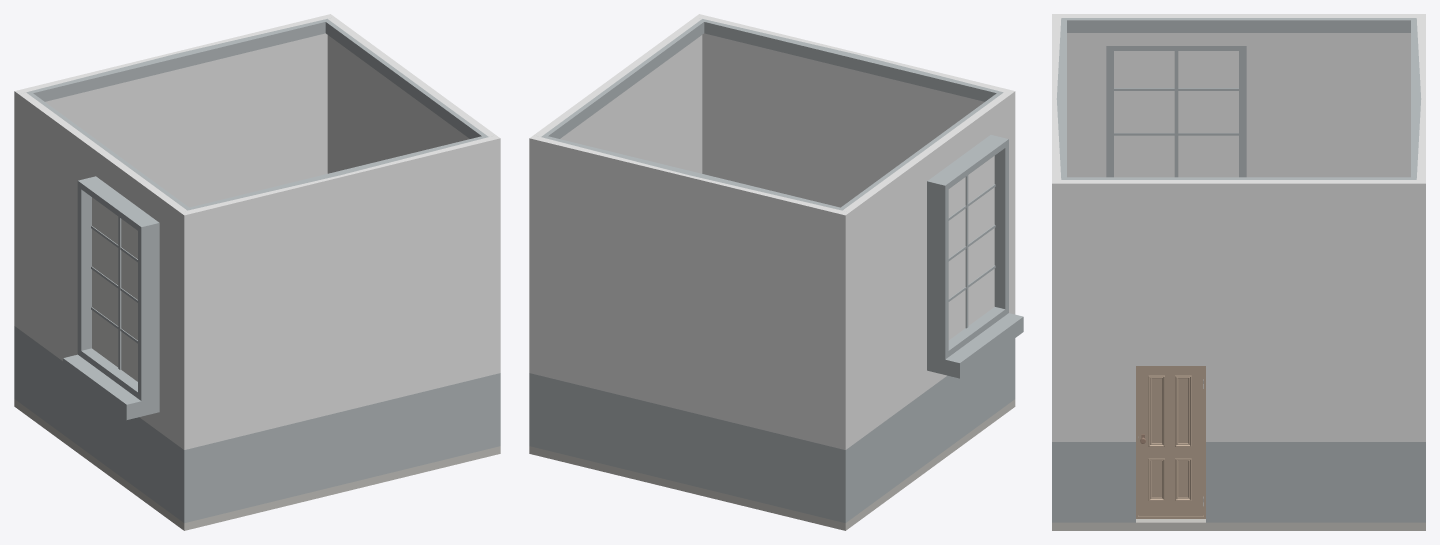
File: 882_private_room_view.glb
The picture shows the model from 3 angles, left to right: view 1: azimuth 30°, elevation 25°; view 2: azimuth 150°, elevation 25°; view 3: azimuth 270°, elevation 25°; orthographic projection. The views are drawn at different scales.
Parts seen in each view (by area): view 1: kabe3, kabe4, kabe1, kabe2, 床; view 2: kabe1, kabe4, kabe3, kabe2, 床; view 3: kabe2, kabe4, 戸, kabe3, kabe1, 床.
Part boxes in pixels (left/top/right/bottom): kabe3: left=180, top=135, right=500, bottom=523; kabe4: left=14, top=91, right=195, bottom=522; kabe1: left=14, top=14, right=334, bottom=207; kabe2: left=325, top=17, right=500, bottom=448; 床: left=14, top=399, right=500, bottom=530; kabe1: left=529, top=135, right=849, bottom=523; kabe4: left=838, top=89, right=1023, bottom=522; kabe3: left=695, top=14, right=1007, bottom=207; kabe2: left=534, top=17, right=704, bottom=173; 床: left=529, top=399, right=1015, bottom=530; kabe2: left=1052, top=177, right=1424, bottom=522; kabe4: left=1052, top=14, right=1416, bottom=177; 戸: left=1138, top=366, right=1203, bottom=516; kabe3: left=1052, top=14, right=1066, bottom=522; kabe1: left=1411, top=14, right=1425, bottom=522; 床: left=1052, top=519, right=1425, bottom=530.
Bounding box in the file's own units: 4.75 × 4.1 × 4.
